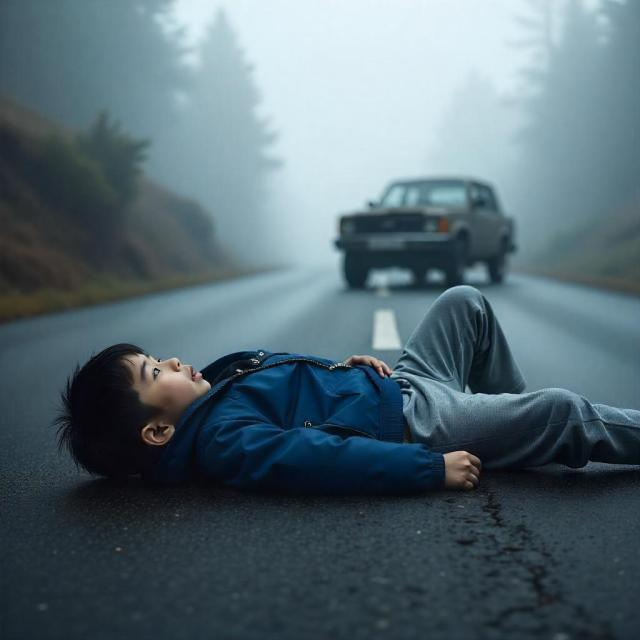injury: (56, 344, 210, 479)
no injury: (54, 288, 639, 508)
